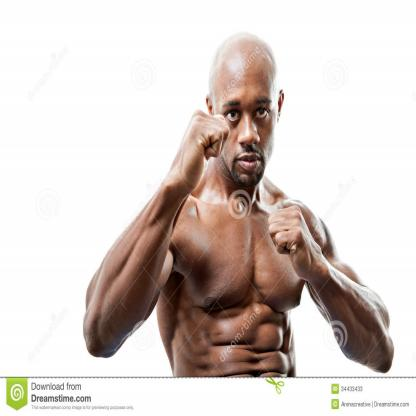fist: (254, 198, 326, 288), (168, 101, 229, 197)
